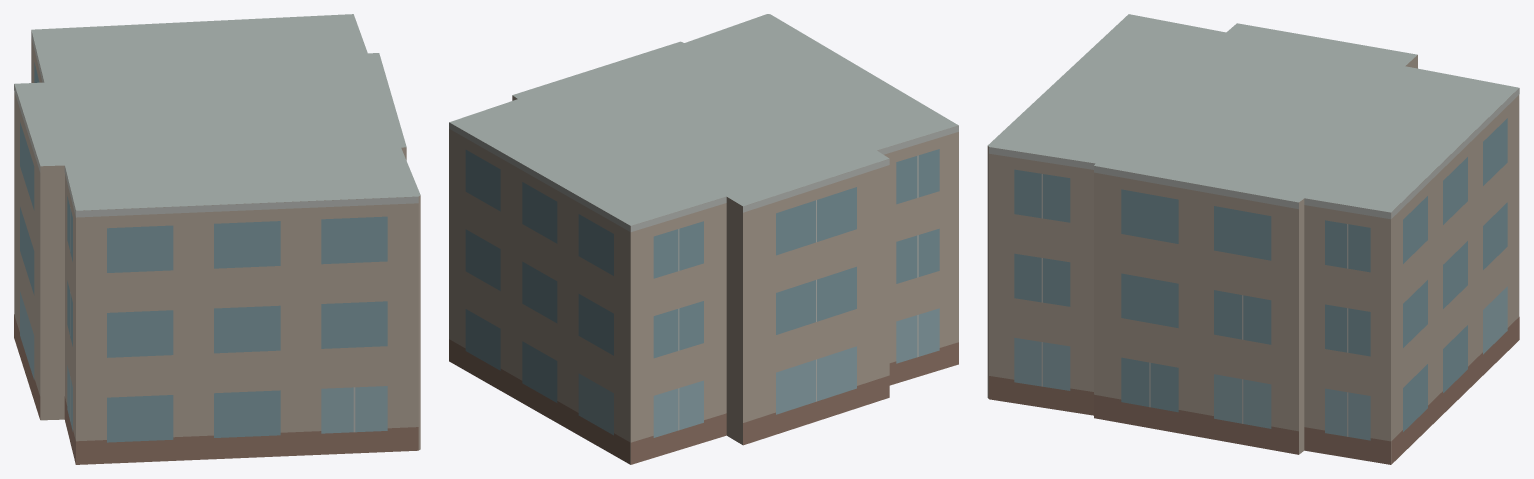
The model's file is survey-upis-32894496.glb.
3 views of the same model, side by side, from view 1: azimuth 30°, elevation 25°; view 2: azimuth 150°, elevation 25°; view 3: azimuth 270°, elevation 25° (orthographic). The views are drawn at different scales.
Visible parts, largest first — view 1: survey-upis-32894496.tmp; view 2: survey-upis-32894496.tmp; view 3: survey-upis-32894496.tmp.
Part boxes in pixels (box(x1,y1,x2,y2)): survey-upis-32894496.tmp: box(14, 14, 420, 464); survey-upis-32894496.tmp: box(449, 14, 958, 464); survey-upis-32894496.tmp: box(987, 14, 1519, 464).
Size of the model in its own units: 15.45 by 9.15 by 17.49.
